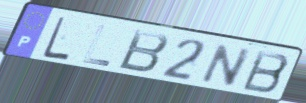2: (159, 39, 207, 82)
B: (115, 28, 172, 75), (239, 48, 292, 96)
L: (40, 15, 72, 62), (81, 23, 113, 69)
N: (197, 43, 255, 89)
